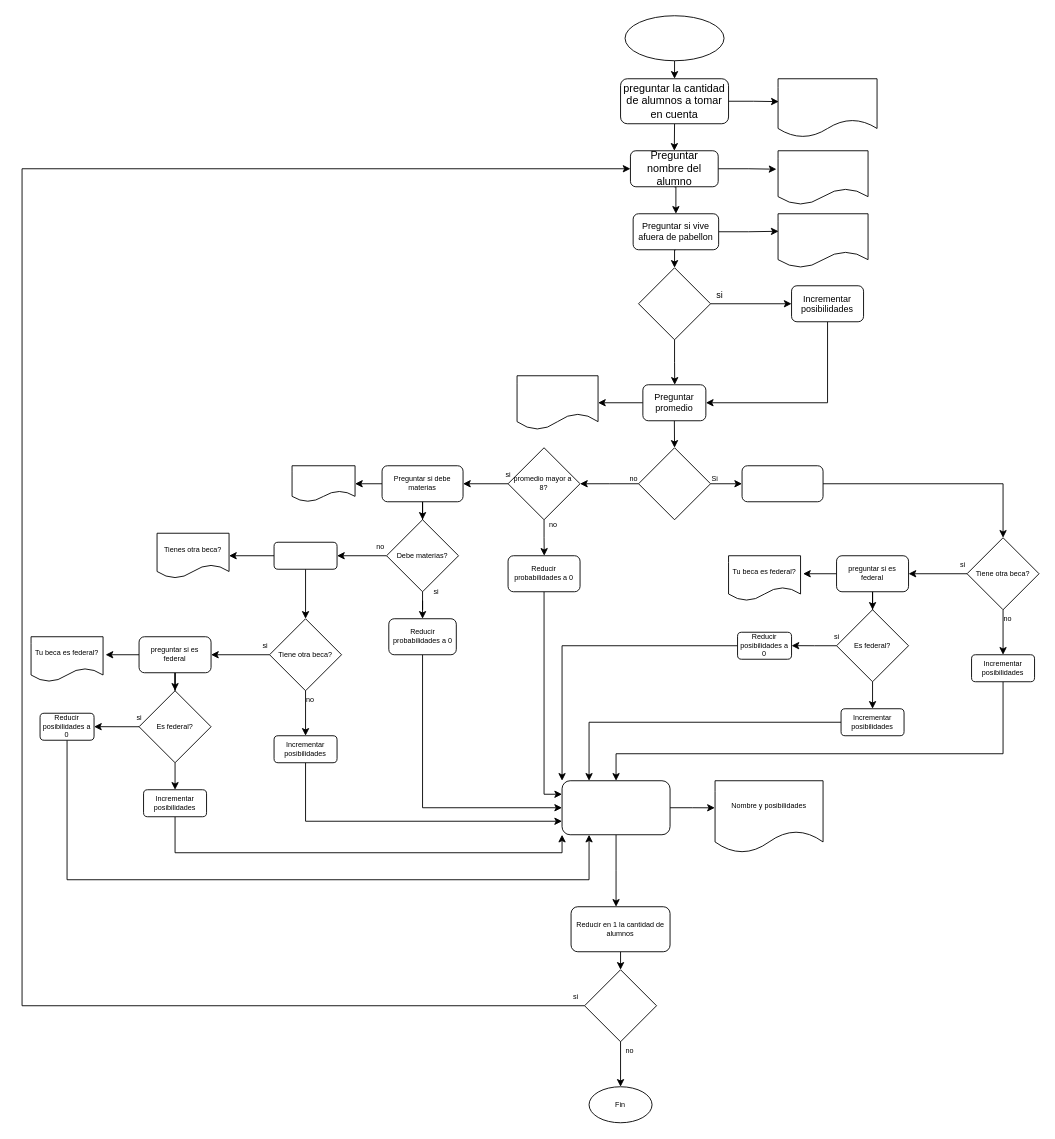
Image size: 1055x1139. Some labels were removed from this diagram. Here are the shapes that lost their labels. From the top down, the centre of each, then its label:
(x=674, y=38): Inicio
(x=827, y=107): ¿Cuantos alumnos se tomaran en cuenta?
(x=822, y=177): Ingrese el nombre del alumno
(x=822, y=240): vive afuera de pabellon?
(x=674, y=303): Vive afuera?
(x=557, y=402): Ingrese el promedio
(x=323, y=483): Debes materias?
(x=674, y=483): promedio mayor a 9?
(x=782, y=483): Incrementar posibilidad
(x=305, y=555): Preguntar si cuenta con otra beca
(x=615, y=807): Mostrar nombre y posibilidades
(x=620, y=1005): Faltan alumnos?
